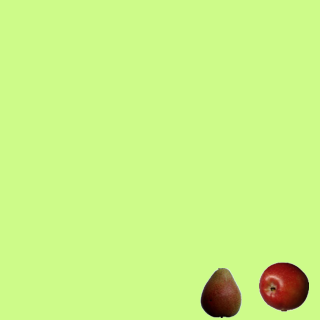Apple Braeburn: (258, 261, 308, 311)
Pear Forelle: (195, 267, 245, 317)
